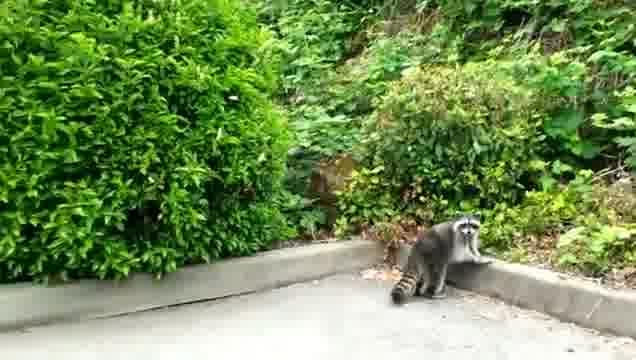raccoon: (390, 212, 496, 306)
